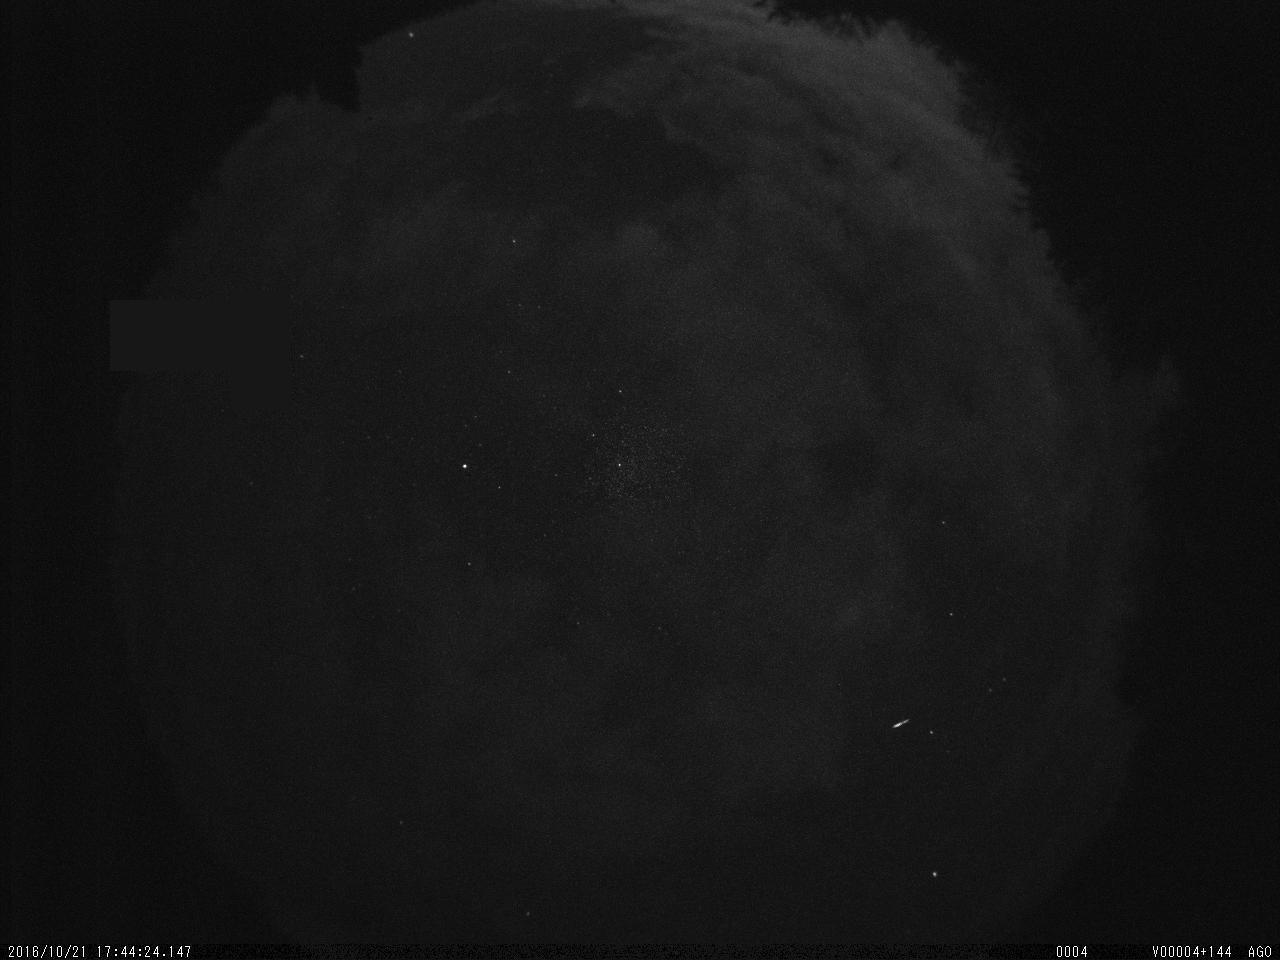meteor: (885, 715, 922, 734)
